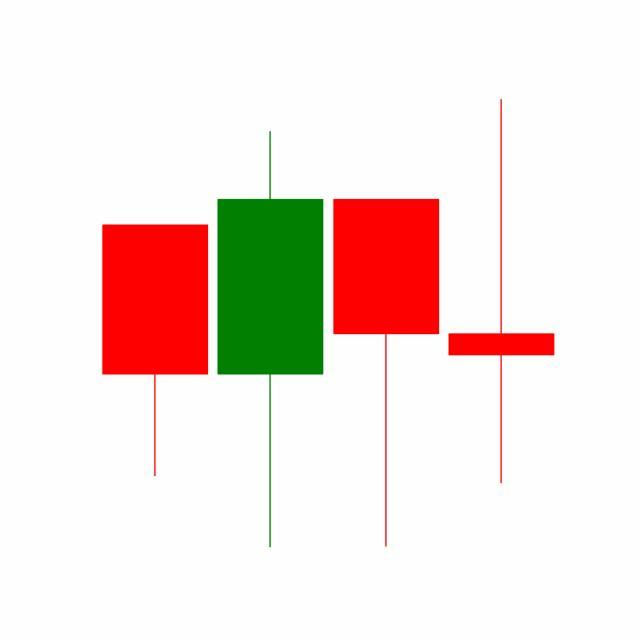Spinning Top: (444, 96, 560, 489)
